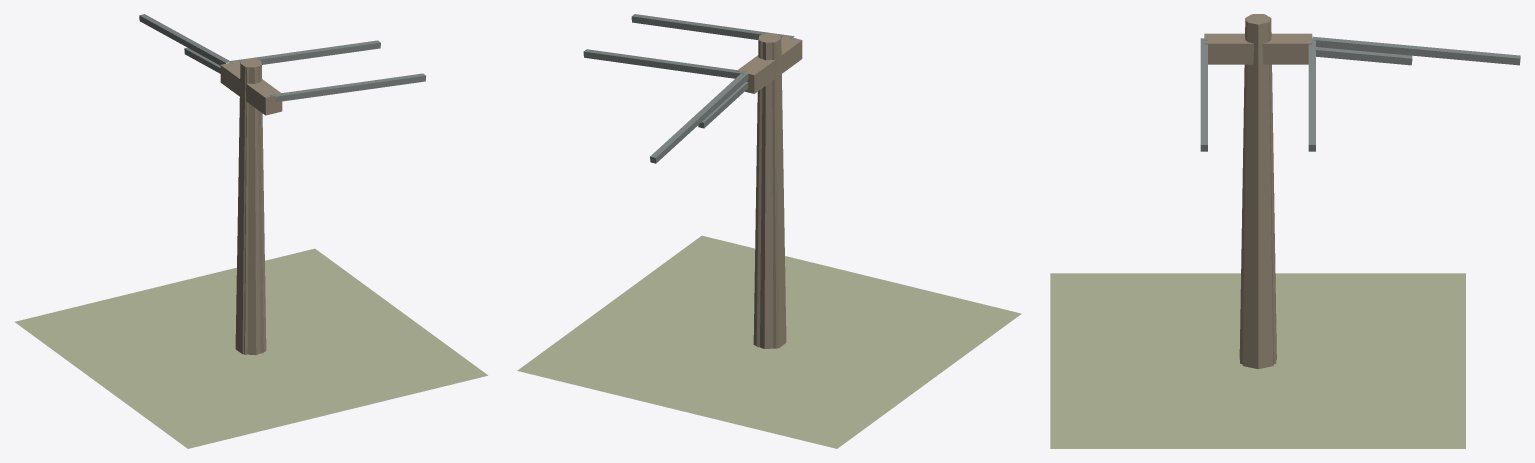
3 renders of one model, left to right at view 1: azimuth 30°, elevation 25°; view 2: azimuth 150°, elevation 25°; view 3: azimuth 270°, elevation 25°, orthographic. The views are drawn at different scales.
Visible parts, largest first — view 1: Near, Far; view 2: Near, Far; view 3: Near, Far.
Part boxes in pixels (x1,y1,x2,y2): Near: (15,14,487,448); Far: (240,58,263,354); Near: (517,14,1021,448); Far: (756,33,780,348); Near: (1050,14,1520,448); Far: (1240,14,1276,363).
Bounding box in the file's own units: 1 × 0.91 × 1.13.
